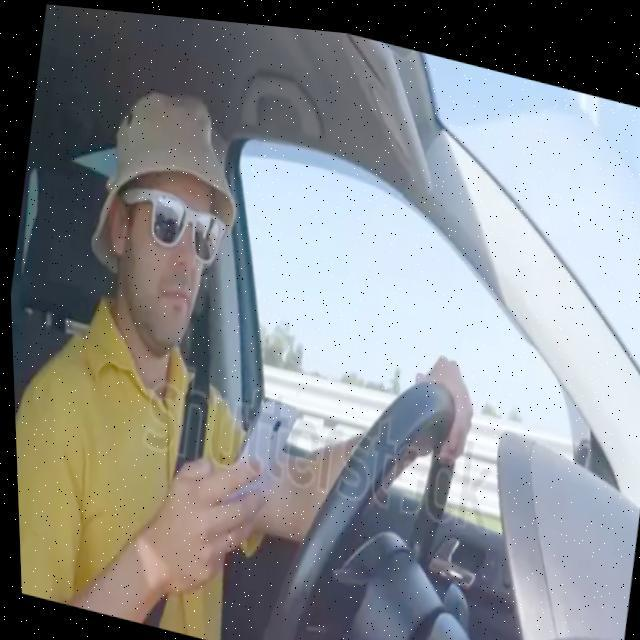PhoneCall: (213, 378, 299, 518)
